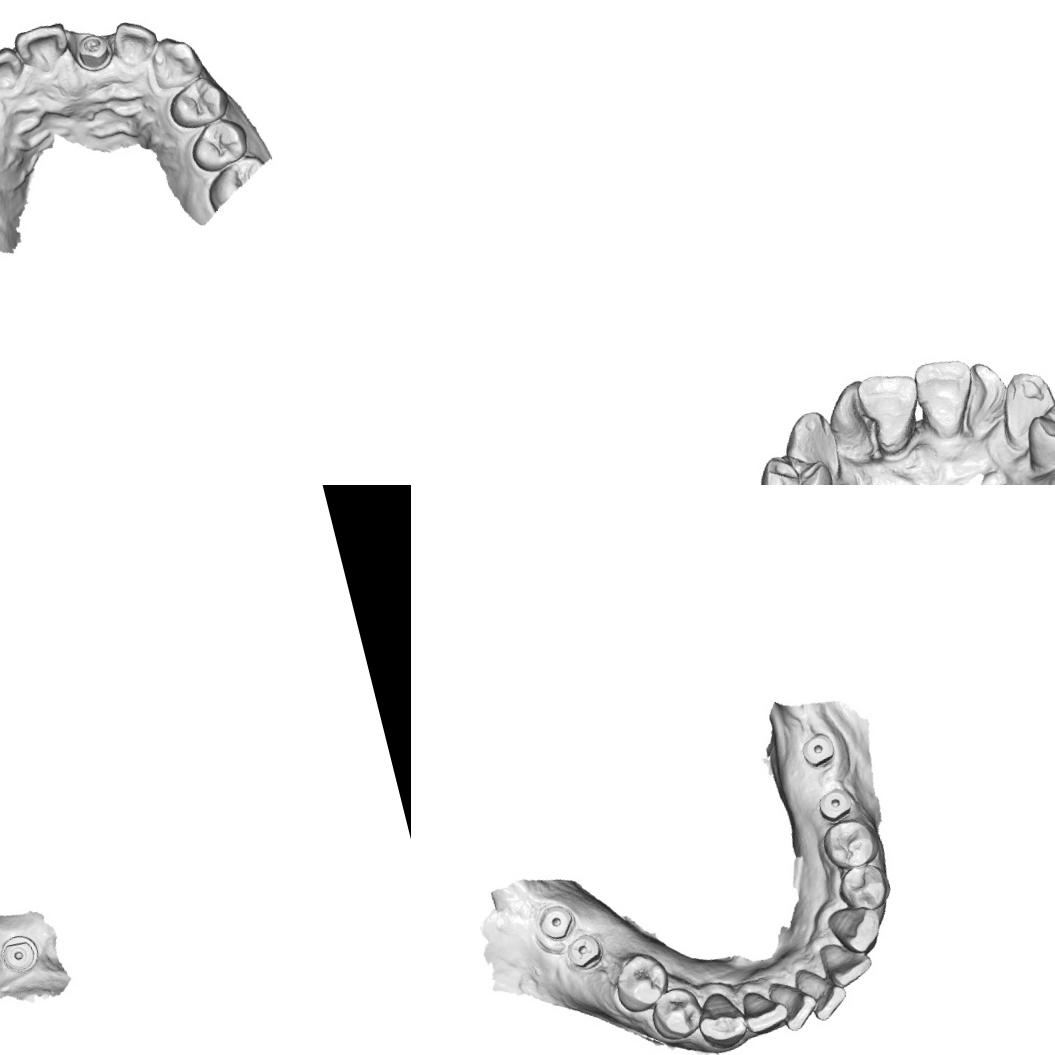canine: (774, 402, 848, 485), (987, 363, 1055, 452), (691, 985, 751, 1052), (824, 898, 887, 960), (145, 29, 206, 92)
implant: (70, 29, 115, 75), (0, 928, 43, 976), (534, 900, 579, 944), (796, 726, 839, 772), (812, 784, 856, 827)
implant_plus: (560, 928, 608, 974)
incisor: (853, 360, 935, 462), (908, 351, 985, 445), (816, 372, 886, 469), (946, 354, 1019, 445), (791, 958, 851, 1024), (764, 971, 822, 1036), (816, 933, 878, 992), (11, 19, 74, 76), (737, 982, 792, 1038), (106, 14, 161, 68), (0, 42, 29, 95)
premolar: (606, 945, 675, 1016), (162, 71, 234, 133), (644, 980, 710, 1046), (184, 113, 253, 176), (817, 812, 884, 874), (832, 856, 894, 916), (754, 441, 838, 485), (1013, 388, 1055, 476)
